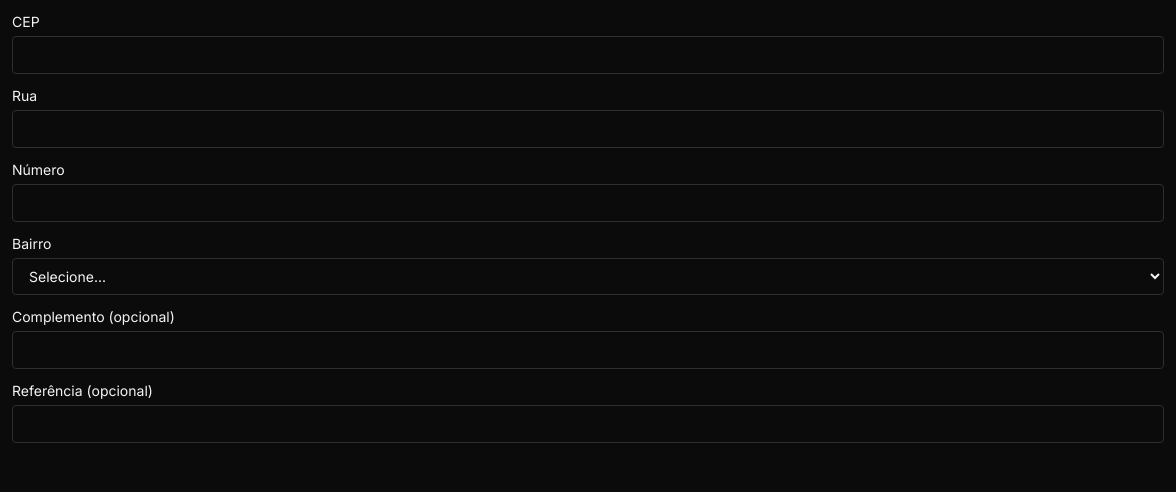
Test: AddressForm › mostra aviso quando o bairro não é atendido
Type "22000000" into the field labelled "CEP".
click(588, 55); type("22000000")  # box [12,36,1164,74]
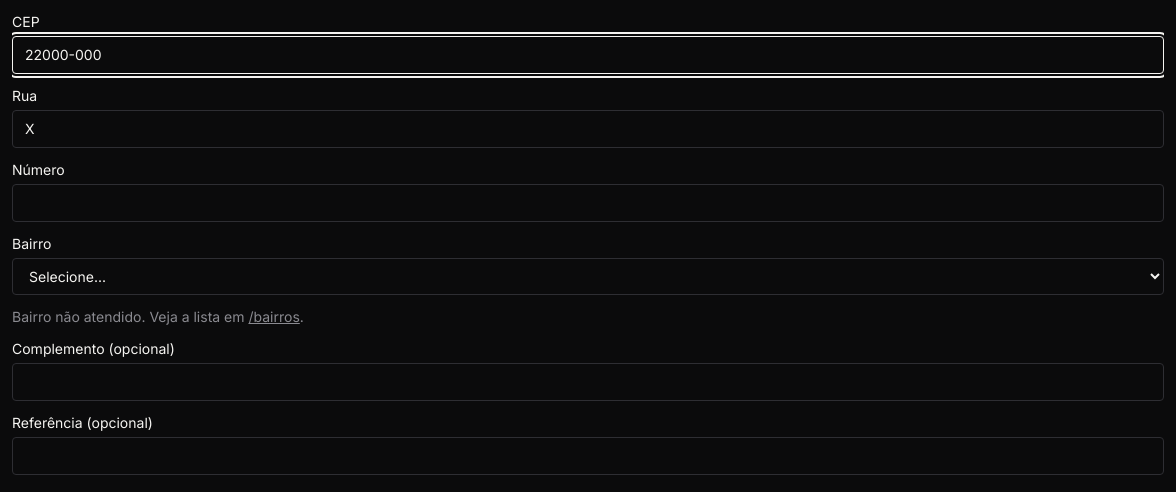
Expected: the text "Bairro não atendido. Veja a lista em /bairros ." is shown, [12,308,304,325]
